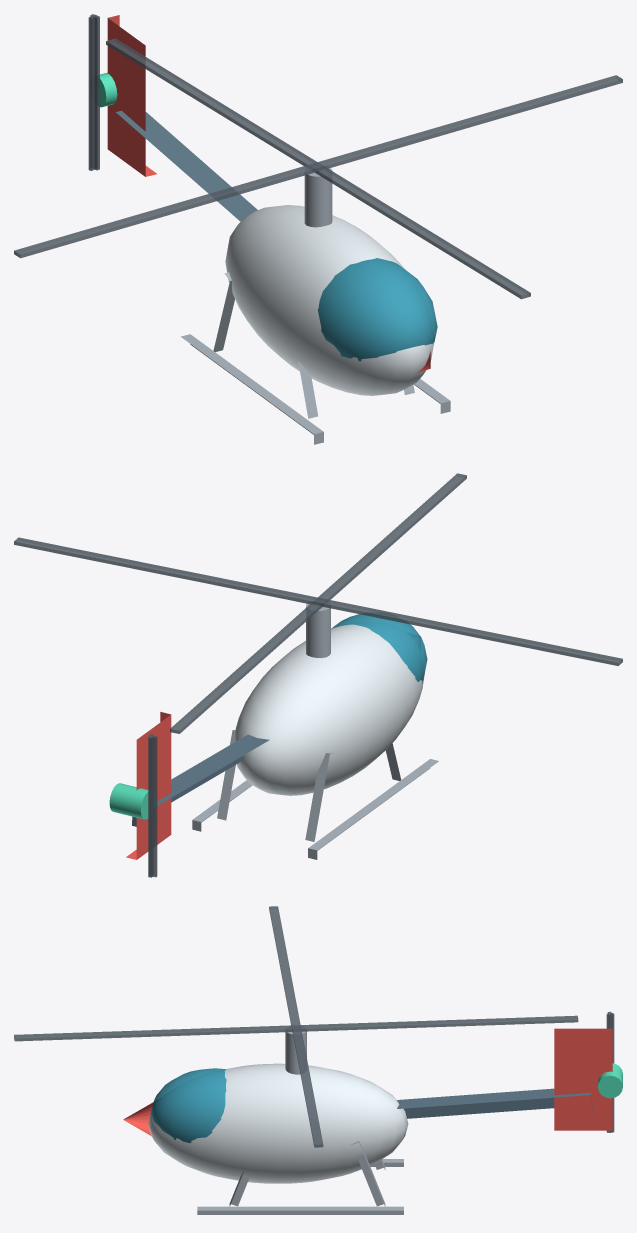
The model's file is helicopter.glb.
3 views of the same model, one above another, from view 1: azimuth 30°, elevation 25°; view 2: azimuth 150°, elevation 25°; view 3: azimuth 270°, elevation 25° (orthographic). The views are drawn at different scales.
Parts seen in each view (by area): view 1: helicopter; view 2: helicopter; view 3: helicopter.
Part boxes in pixels (x1,y1,x2,y2): helicopter: (14,14,622,444); helicopter: (14,473,622,877); helicopter: (14,906,622,1214).
Size of the model in its own units: 6.29 by 2.11 by 6.78.
